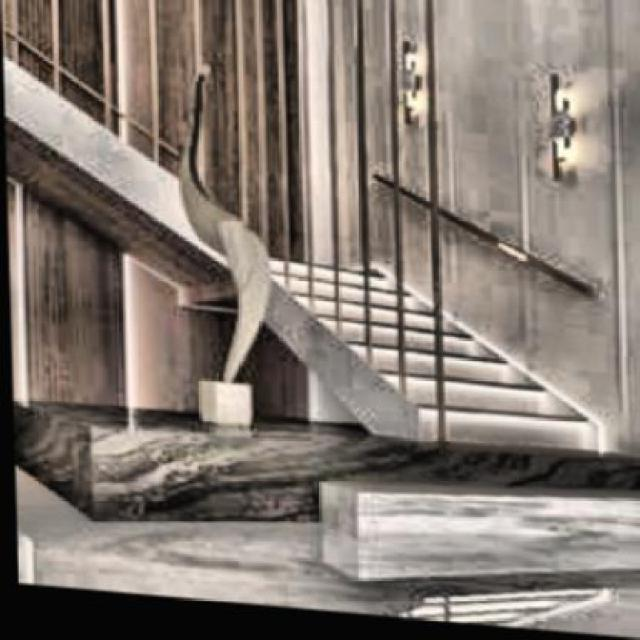stair: (268, 242, 594, 448)
